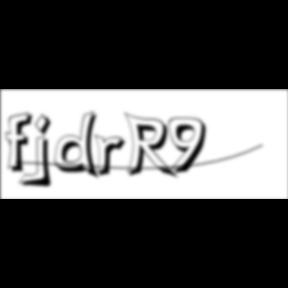9: (168, 117, 214, 177)
R: (124, 112, 182, 182)
d: (55, 110, 105, 182)
f: (6, 111, 38, 175)
j: (32, 113, 58, 191)
r: (95, 134, 133, 180)
